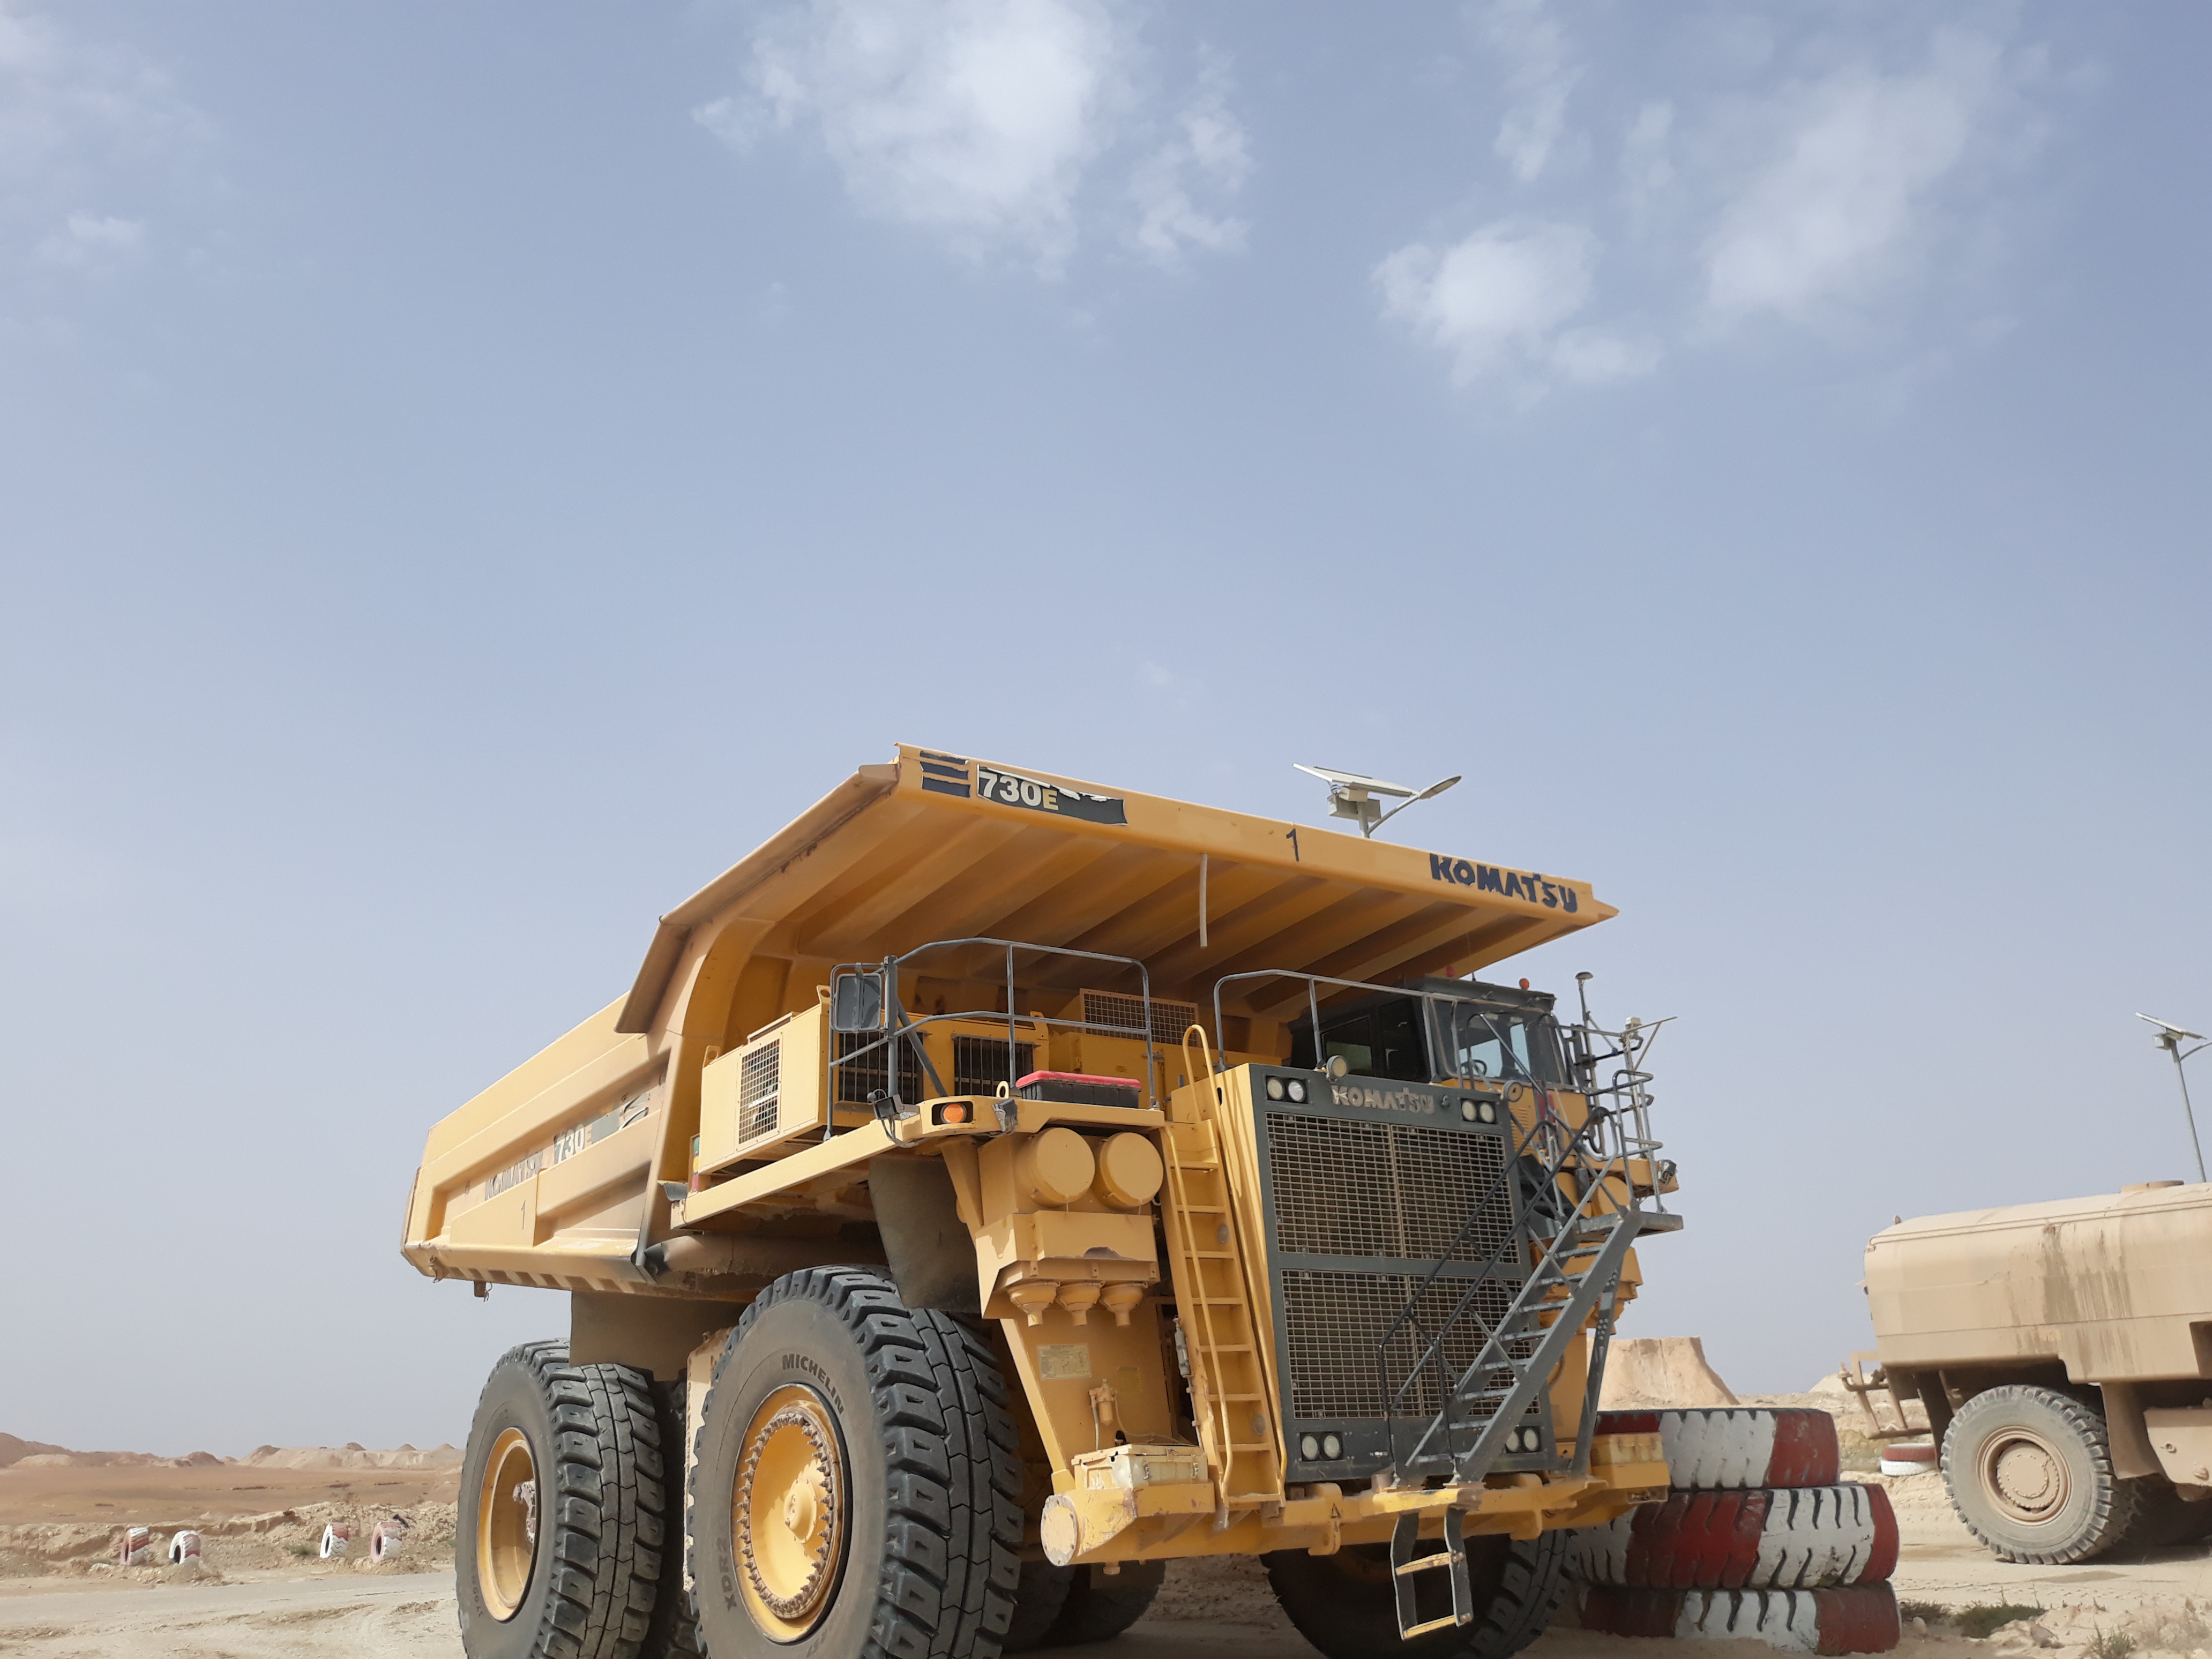camion: (401, 788, 1810, 1659)
